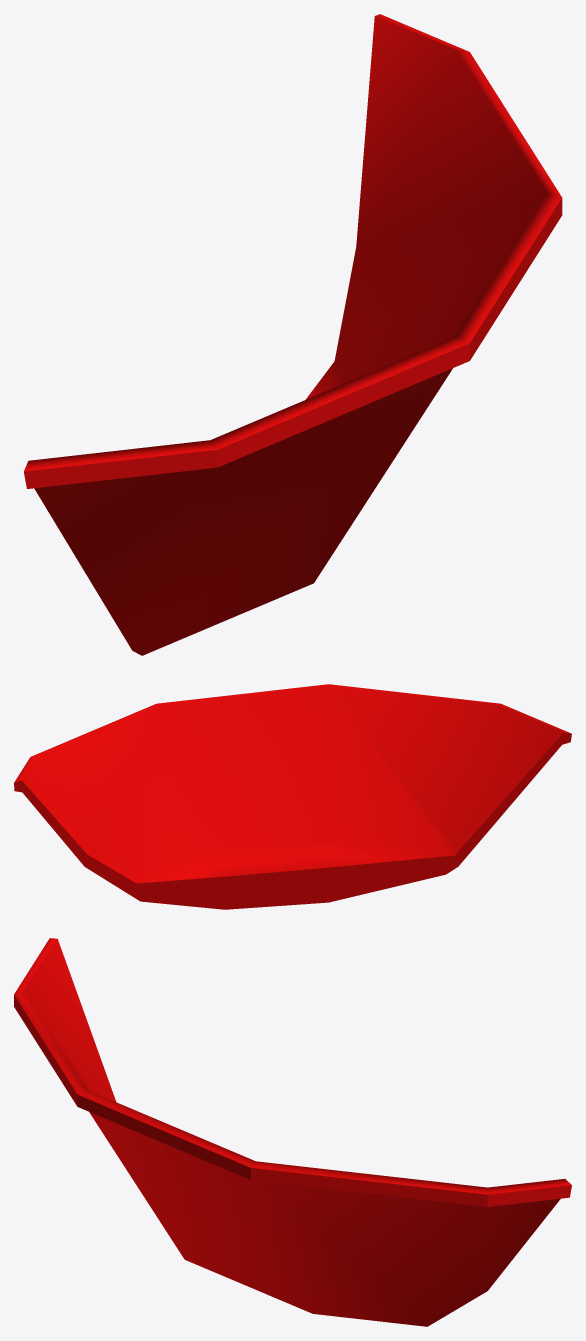
The model's file is BrokenBowl_3.fbx.
The picture shows the model from 3 angles, top to bottom: view 1: azimuth 30°, elevation 25°; view 2: azimuth 150°, elevation 25°; view 3: azimuth 270°, elevation 25°; orthographic projection. The views are drawn at different scales.
Visible parts, largest first — view 1: BrokenBowl_3; view 2: BrokenBowl_3; view 3: BrokenBowl_3.
Boxes of the visible parts, x1=… form: BrokenBowl_3: x1=24, y1=14, x2=562, y2=655; BrokenBowl_3: x1=14, y1=684, x2=571, y2=909; BrokenBowl_3: x1=14, y1=938, x2=571, y2=1326.
Size of the model in its own units: 85.45 by 34.19 by 78.53.
